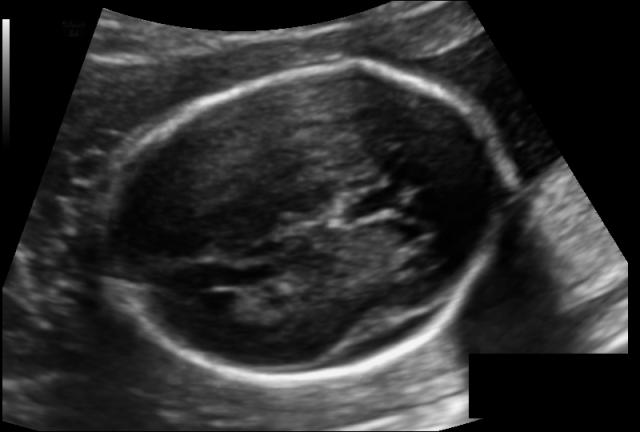CHOROID_PLEXUS: (204, 264, 310, 337)
CSP: (359, 167, 436, 230)
MIDLINE_FALX: (91, 181, 531, 260)
